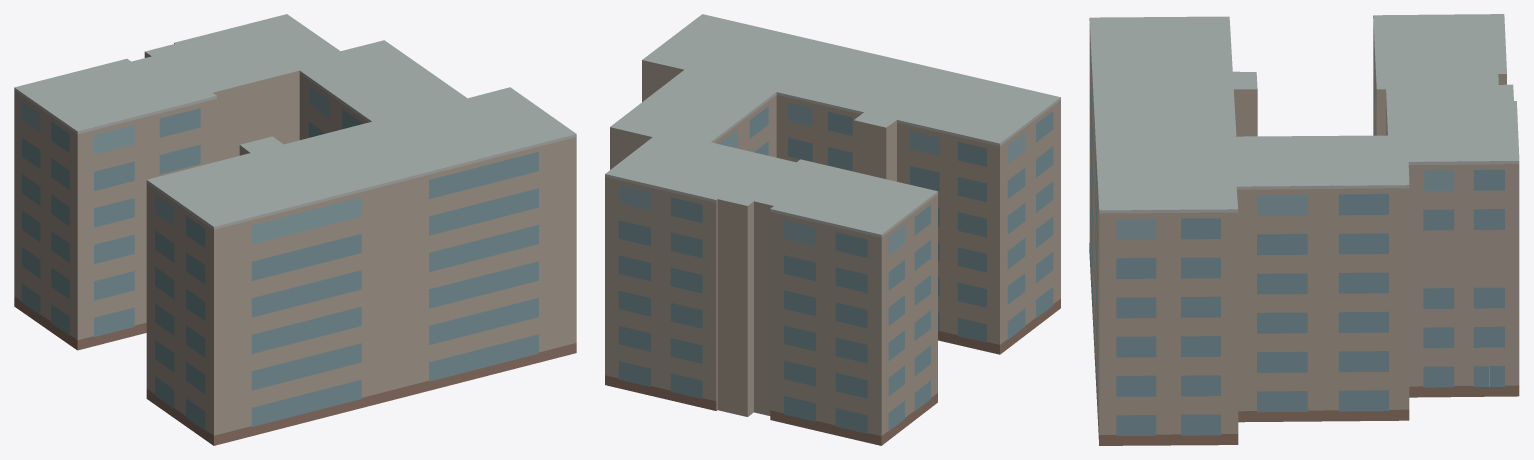
The model's file is survey-upis-32962197.glb.
3 views of the same model, side by side, from view 1: azimuth 30°, elevation 25°; view 2: azimuth 150°, elevation 25°; view 3: azimuth 270°, elevation 25° (orthographic). The views are drawn at different scales.
Parts seen in each view (by area): view 1: survey-upis-32962197.tmp; view 2: survey-upis-32962197.tmp; view 3: survey-upis-32962197.tmp.
Part boxes in pixels (<box>): survey-upis-32962197.tmp: <box>14,14,576,445</box>; survey-upis-32962197.tmp: <box>605,14,1060,445</box>; survey-upis-32962197.tmp: <box>1089,14,1519,445</box>.
Bounding box in the file's own units: 32.62 × 18.24 × 30.18.
